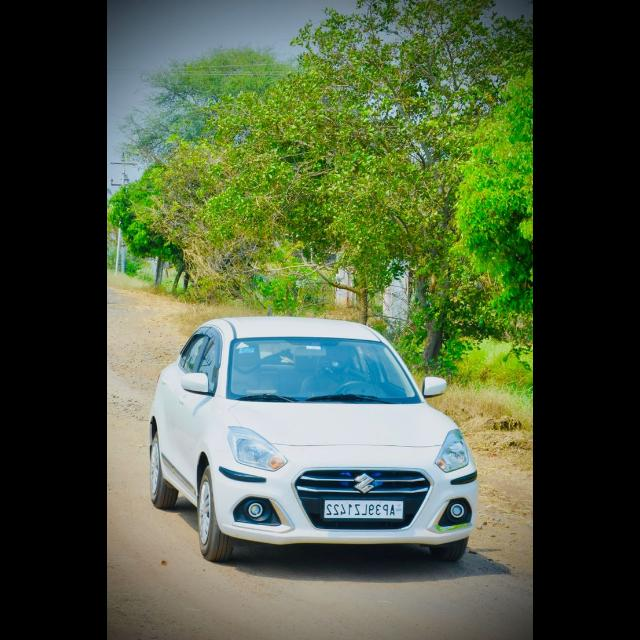vehicles: (153, 319, 479, 569)
